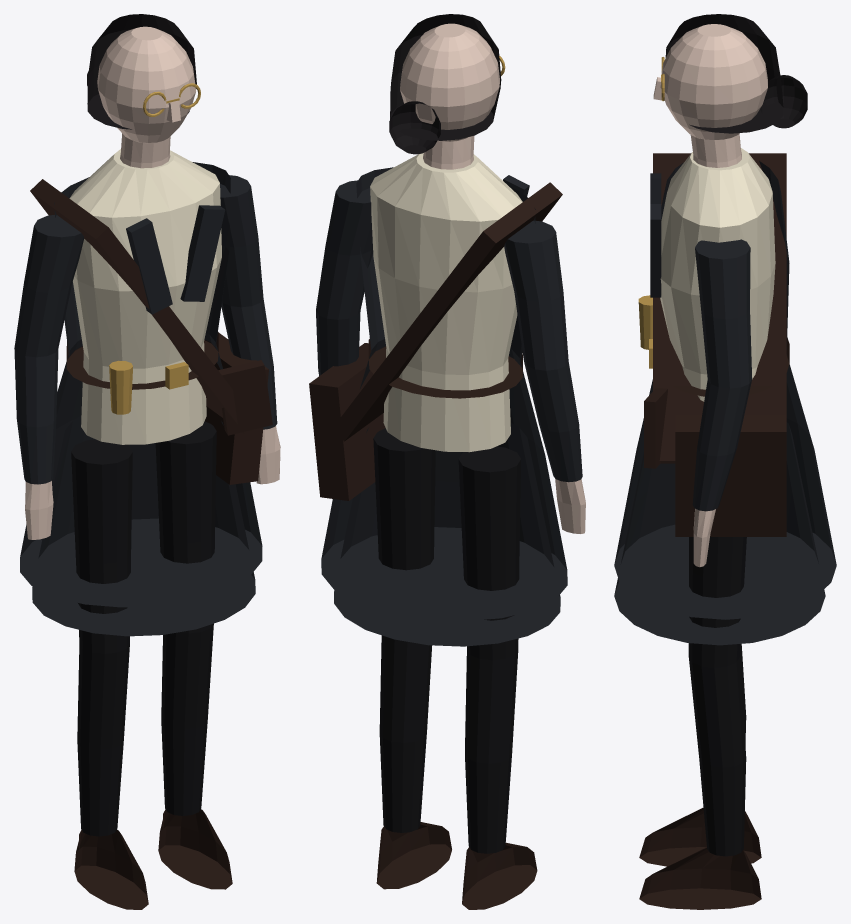
Rendered from CH_Protagonista_A.obj.
3 views of the same model, side by side, from view 1: azimuth 30°, elevation 25°; view 2: azimuth 150°, elevation 25°; view 3: azimuth 270°, elevation 25° (orthographic).
Parts seen in each view (by area): view 1: BodyGroup, HeadGroup; view 2: BodyGroup, HeadGroup; view 3: BodyGroup, HeadGroup.
Boxes of the visible parts, box(x1,y1,x2,y2) form: BodyGroup: box(14, 149, 280, 909); HeadGroup: box(87, 14, 200, 168); BodyGroup: box(309, 153, 585, 909); HeadGroup: box(389, 14, 505, 169); BodyGroup: box(614, 148, 836, 909); HeadGroup: box(653, 14, 807, 167).
Size of the model in its own units: 0.536 by 1.7 by 0.4.
